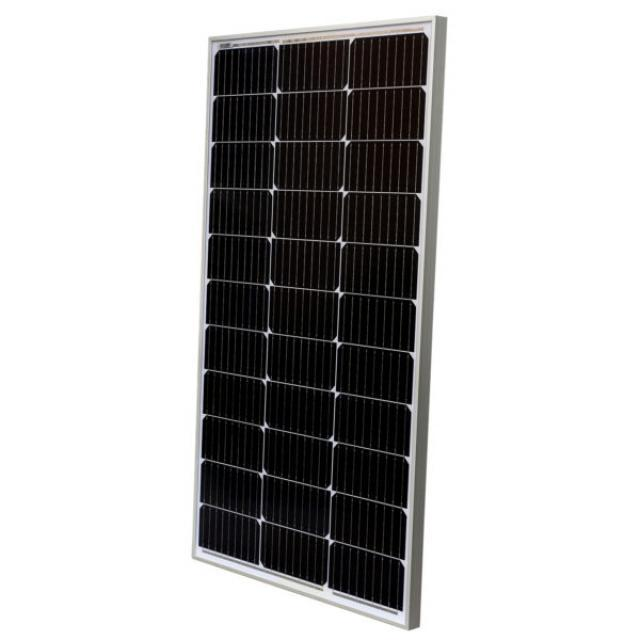no faulty: (200, 37, 428, 617)
